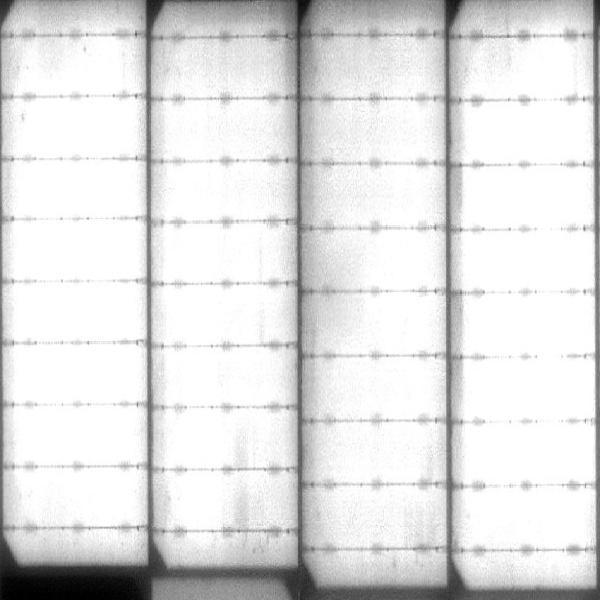hot_spot: (466, 492, 593, 545), (465, 365, 588, 418), (468, 233, 592, 284), (13, 475, 140, 523), (473, 426, 590, 478), (14, 411, 139, 459), (467, 174, 588, 223), (16, 349, 141, 396), (471, 298, 586, 349), (15, 226, 137, 273), (18, 164, 135, 213), (164, 415, 283, 463), (18, 287, 138, 334), (26, 101, 133, 152), (470, 107, 583, 155), (167, 477, 280, 523), (170, 290, 276, 338), (168, 352, 271, 397), (533, 45, 566, 87)
